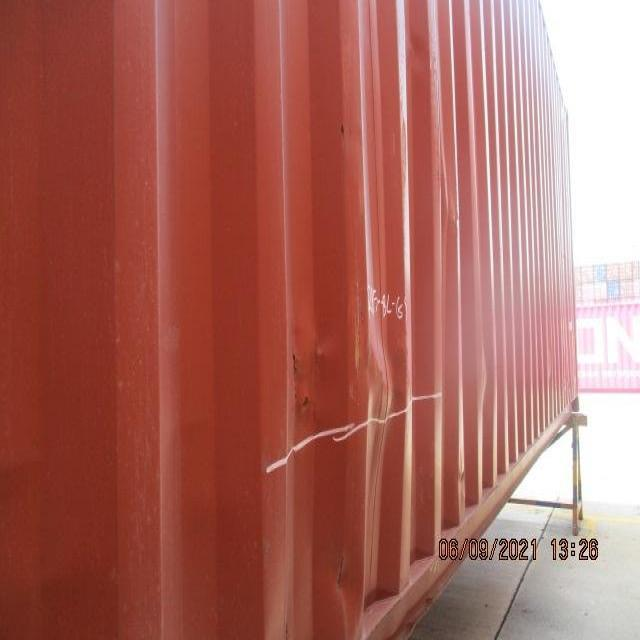Dent: (254, 280, 444, 479)
Minor-Dent: (429, 168, 462, 257)
